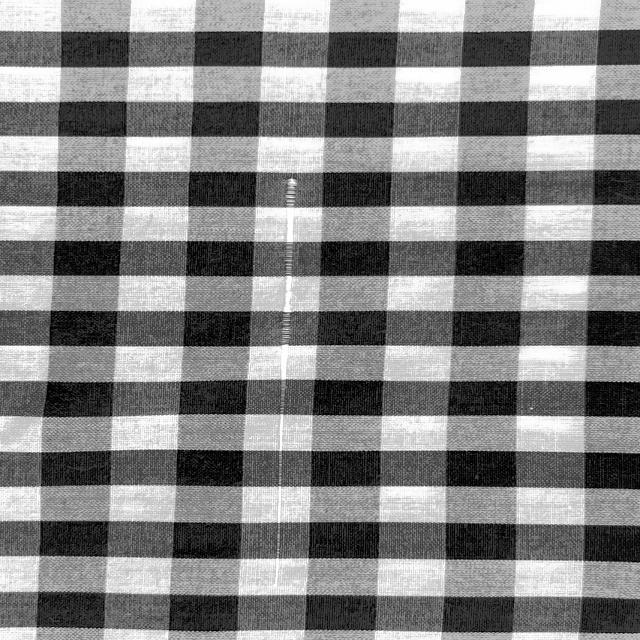Foreign_yarn: (264, 177, 300, 508)
